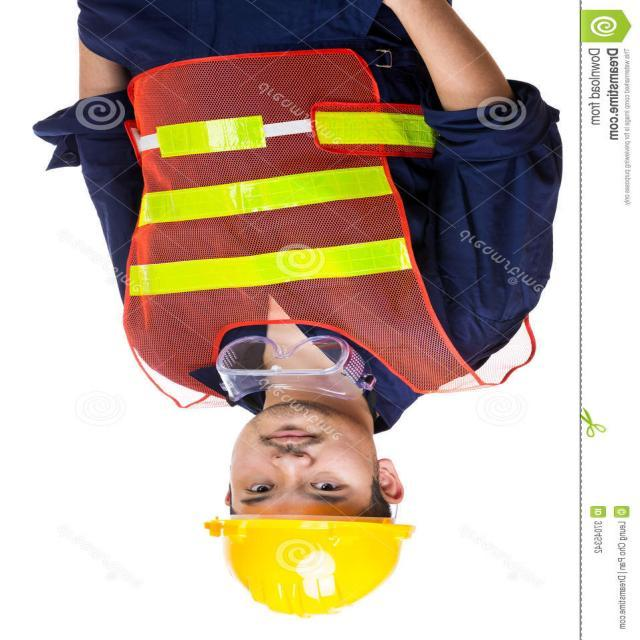safetyhelmet: (202, 435, 418, 627)
